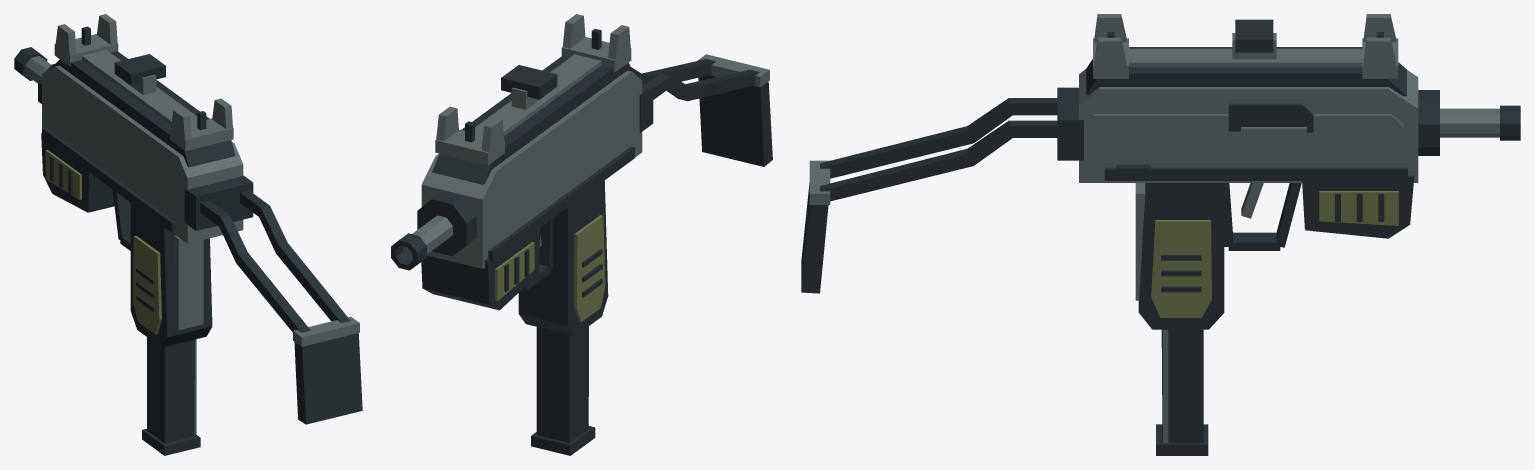
File: uzi.glb
3 views of the same model, side by side, from view 1: azimuth 30°, elevation 25°; view 2: azimuth 150°, elevation 25°; view 3: azimuth 270°, elevation 25° (orthographic). The views are drawn at different scales.
Parts seen in each view (by area): view 1: Receiver_0, Stock_butt_52, Straight_magazine_27, Grip_17, Top_cover_1, Stock_arm_50, Stock_arm_51, Grip_safety_26, Stock_hinge_49, Grip_panel_18, Lower_receiver_rail_5, Cover_ridge_2 (+14 smaller); view 2: Receiver_0, Grip_17, Straight_magazine_27, Stock_butt_52, Top_cover_1, Foregrip_8, Grip_panel_18, Lower_receiver_rail_5, Cover_ridge_2, Barrel_nut_34, Stock_arm_50, Charging_handle_47 (+15 smaller); view 3: Receiver_side_panel_3, Receiver_0, Grip_17, Top_cover_1, Grip_panel_22, Stock_arm_51, Stock_arm_50, Straight_magazine_27, Cover_ridge_2, Lower_receiver_rail_4, Foregrip_8, Foregrip_panel_13 (+15 smaller).
Boxes of the visible parts, box(x1,y1,x2,y2) form: Receiver_0: box(42, 65, 243, 243); Stock_butt_52: box(294, 333, 362, 424); Straight_magazine_27: box(147, 337, 194, 443); Grip_17: box(130, 203, 212, 347); Top_cover_1: box(51, 51, 235, 167); Stock_arm_50: box(200, 200, 310, 332); Stock_arm_51: box(240, 190, 350, 322); Grip_safety_26: box(174, 235, 203, 330); Stock_hinge_49: box(184, 175, 253, 230); Grip_panel_18: box(133, 235, 161, 334); Lower_receiver_rail_5: box(42, 127, 175, 232); Cover_ridge_2: box(82, 50, 197, 124); Receiver_0: box(421, 70, 642, 268); Grip_17: box(518, 180, 608, 335); Straight_magazine_27: box(536, 326, 588, 442); Stock_butt_52: box(698, 75, 772, 166); Top_cover_1: box(432, 56, 632, 184); Foregrip_8: box(421, 228, 540, 310); Grip_panel_18: box(574, 215, 605, 321); Lower_receiver_rail_5: box(488, 146, 634, 262); Cover_ridge_2: box(475, 54, 601, 136); Barrel_nut_34: box(417, 192, 476, 255); Stock_arm_50: box(646, 69, 759, 100); Charging_handle_47: box(501, 65, 557, 99); Receiver_side_panel_3: box(1093, 114, 1403, 164); Receiver_0: box(1079, 69, 1418, 182); Grip_17: box(1138, 183, 1224, 329); Top_cover_1: box(1086, 47, 1406, 96); Grip_panel_22: box(1151, 220, 1211, 317); Stock_arm_51: box(820, 120, 1057, 201); Stock_arm_50: box(820, 98, 1057, 178); Straight_magazine_27: box(1161, 329, 1203, 442); Cover_ridge_2: box(1129, 48, 1362, 67); Lower_receiver_rail_4: box(1104, 167, 1407, 180); Foregrip_8: box(1302, 175, 1414, 238); Foregrip_panel_13: box(1319, 191, 1398, 225).
Bounding box in the file's own units: 0.0954 × 0.447 × 0.697.
